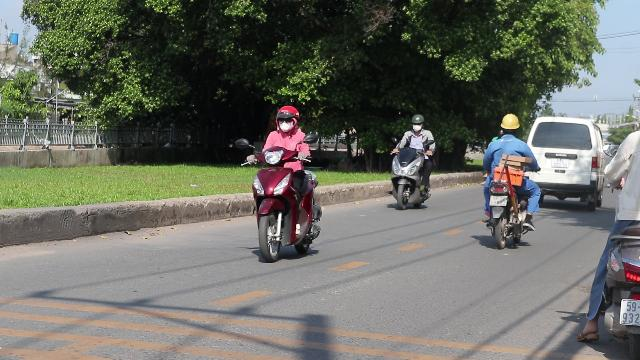helmet: (274, 106, 298, 132), (498, 113, 520, 135), (410, 114, 424, 132)
licenseplate: (489, 195, 506, 206)
motorcyclist: (242, 104, 324, 262), (477, 112, 541, 248), (387, 114, 435, 210)
